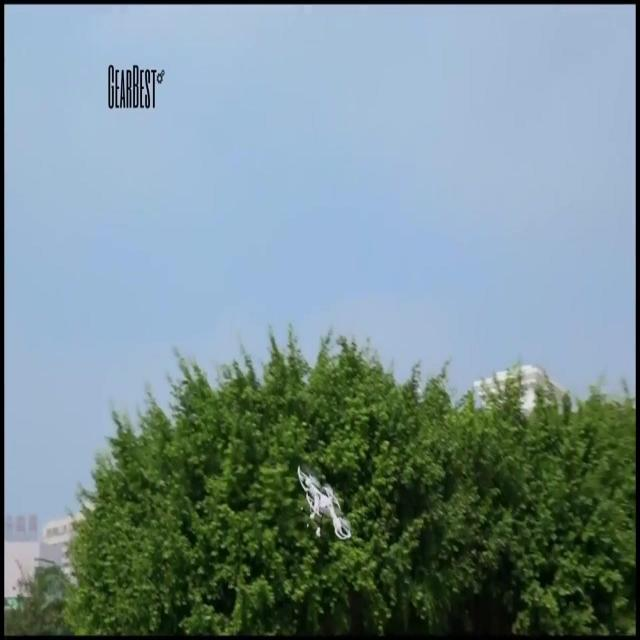UAV: (297, 466, 351, 538)
